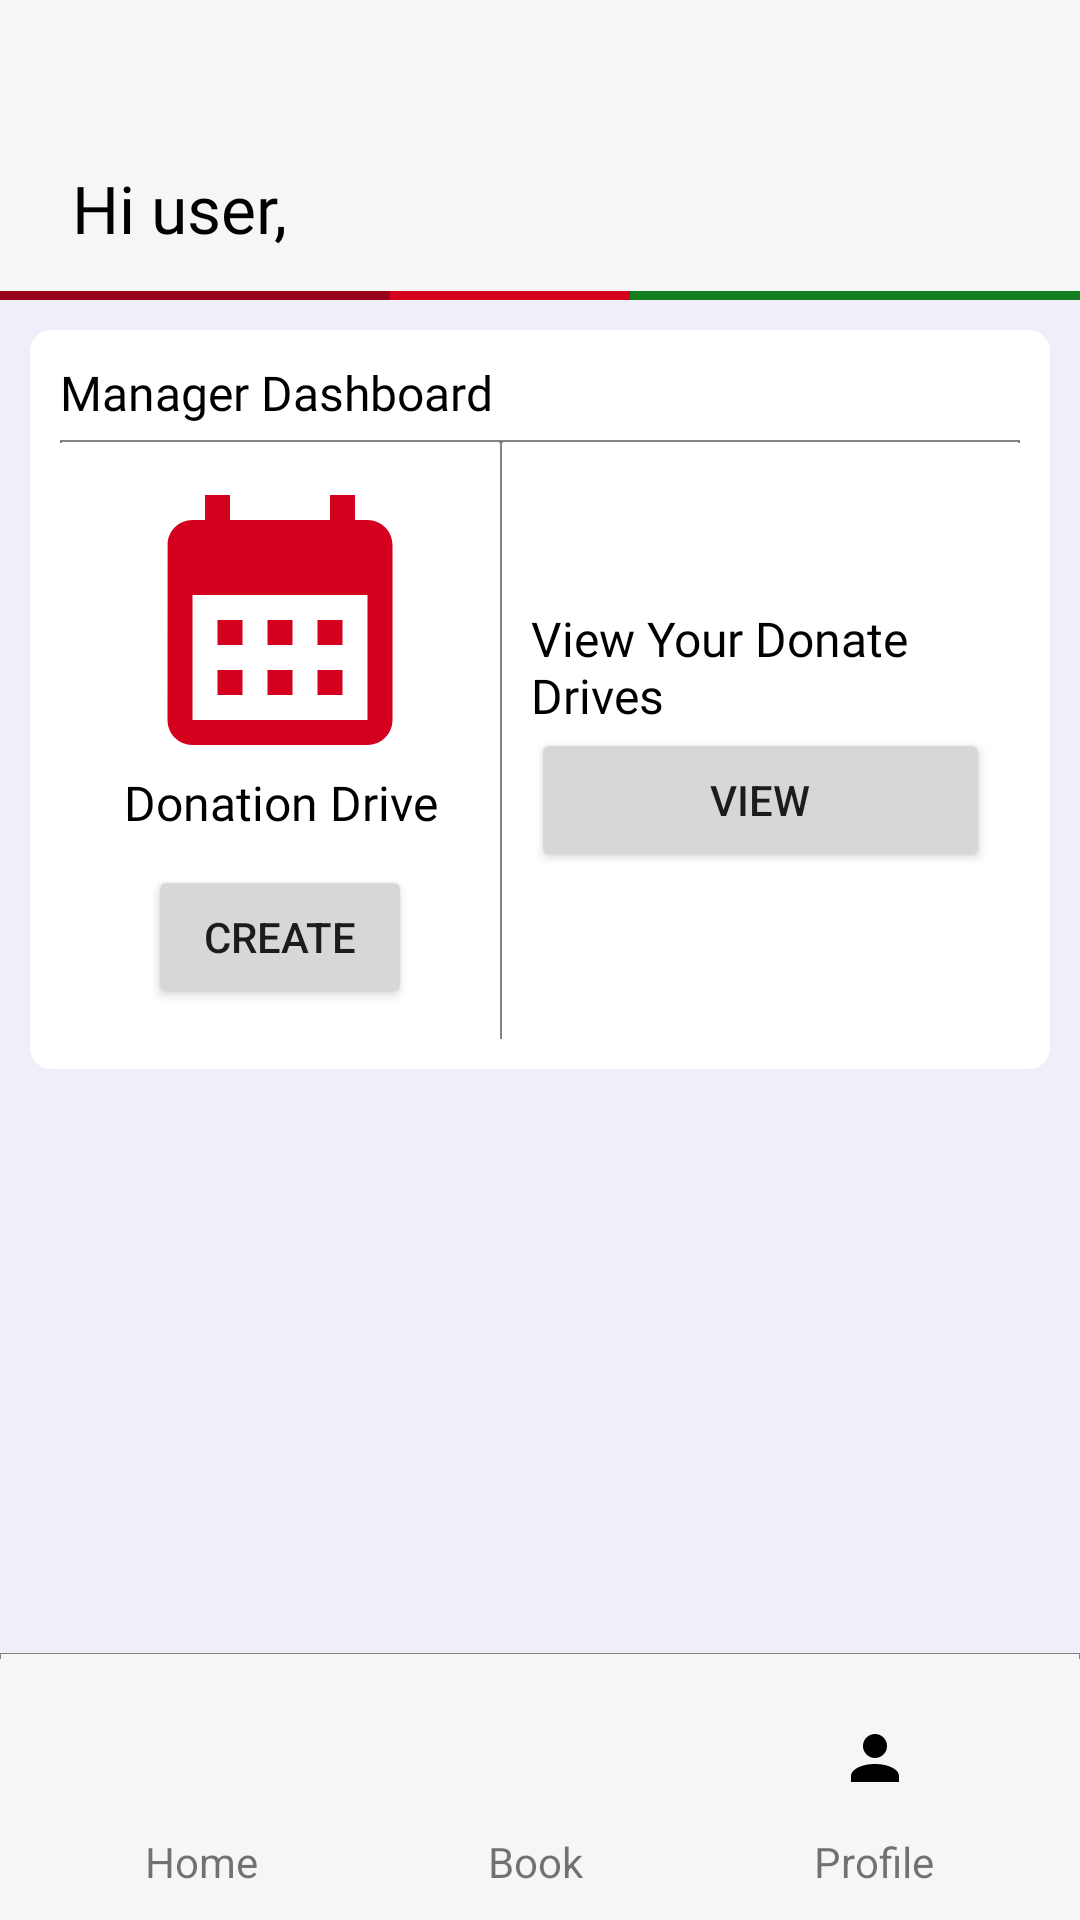

Screen size 1080*1920. Icon name, then its box in pixels as (x1, y1, x2, y2):
calendar: (167, 495, 393, 745)
